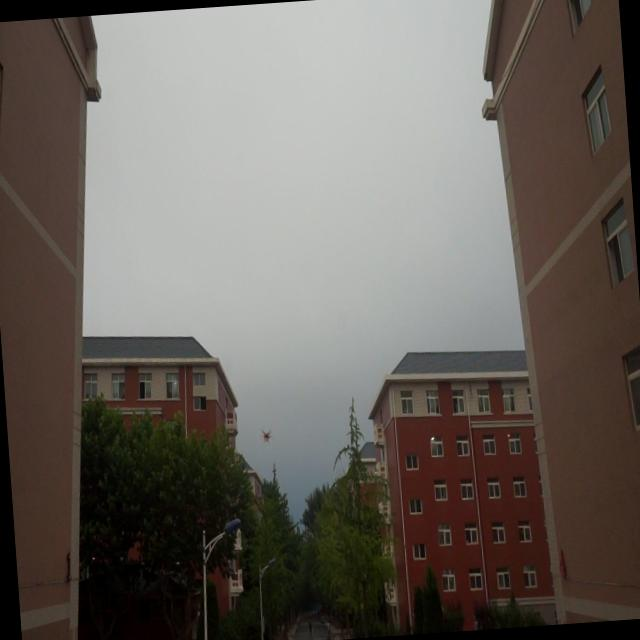drone: (258, 426, 273, 447)
